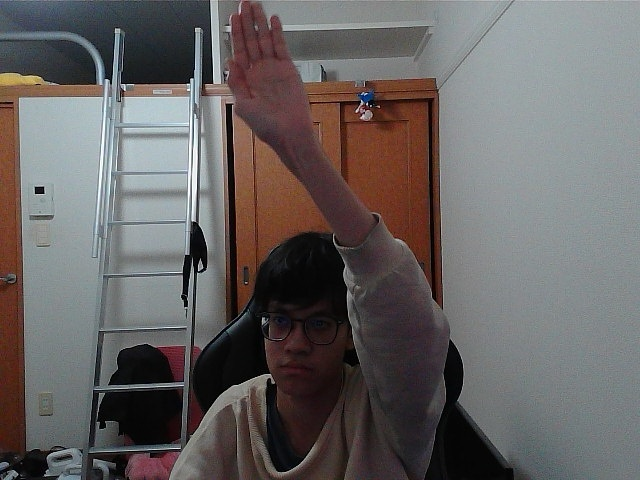open_palm: (233, 7, 287, 122)
